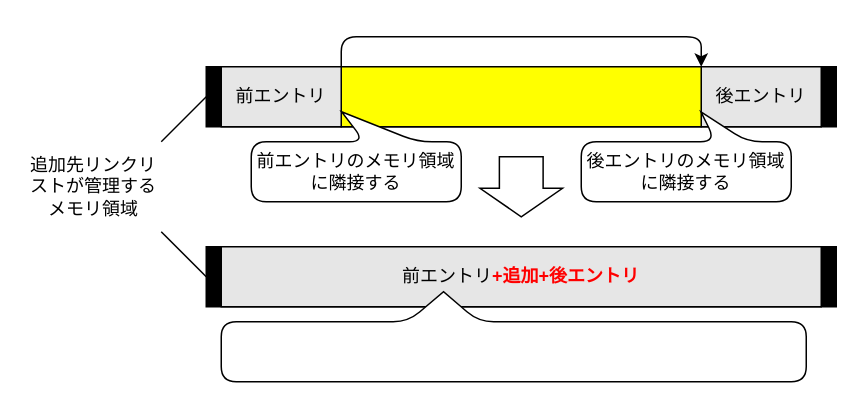
The diagram is 863 pixels wide and 410 high, and some of its shapes have lost their labels. Here are the shapes that lost their labels. From the top down, the centre of each, then its label:
At (x=520, y=96): "追加".
At (x=513, y=336): "前エントリのブロック管理情報を編集して追加メモリ領域と後エントリを結合し、後エントリを未使用リンクリストに移動".
